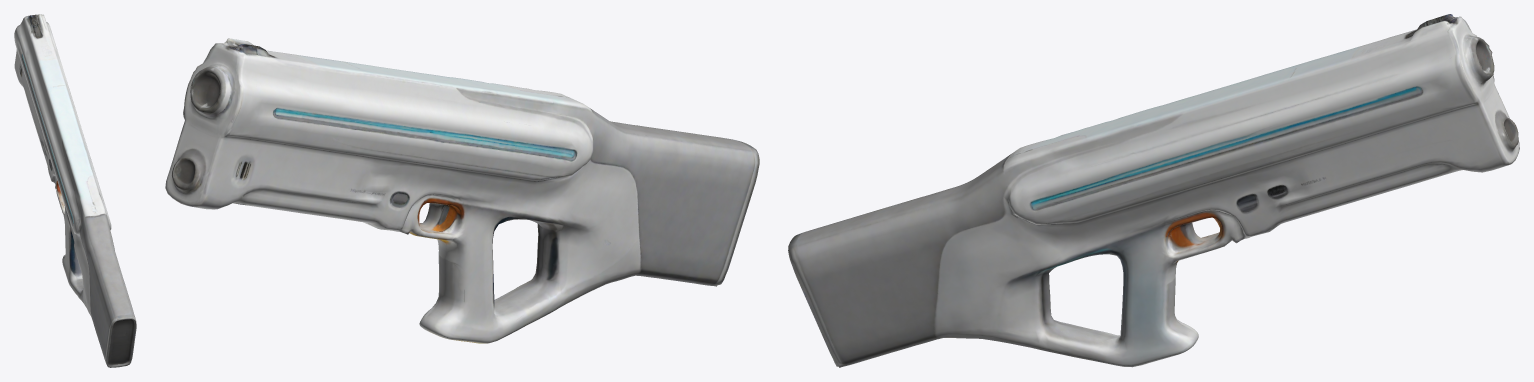
The model's file is WATERGUN3.glb.
3 views of the same model, side by side, from view 1: azimuth 30°, elevation 25°; view 2: azimuth 150°, elevation 25°; view 3: azimuth 270°, elevation 25° (orthographic). The views are drawn at different scales.
Parts seen in each view (by area): view 1: Mesh_0; view 2: Mesh_0; view 3: Mesh_0.
Boxes of the visible parts, bbox=[...] form: Mesh_0: bbox=[14, 14, 136, 367]; Mesh_0: bbox=[165, 38, 759, 343]; Mesh_0: bbox=[788, 14, 1519, 367].
Size of the model in its own units: 0.6366 by 1.18 by 1.88.
1 material, 1 textured.
